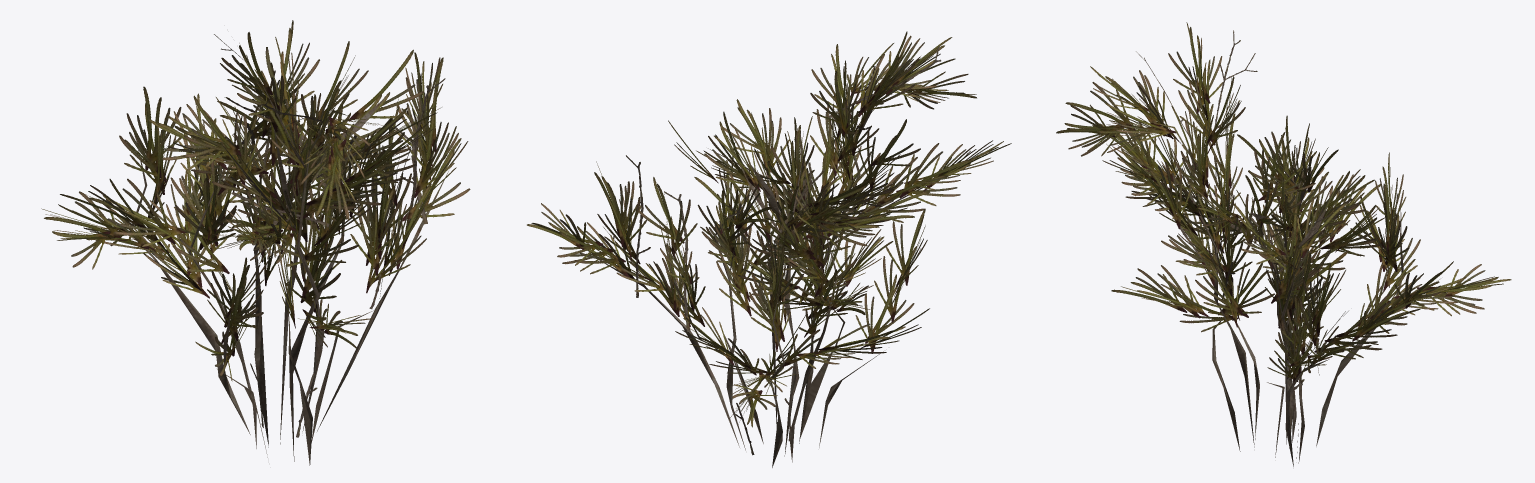
The model's file is bush_dry_c.glb.
The picture shows the model from 3 angles, left to right: view 1: azimuth 30°, elevation 25°; view 2: azimuth 150°, elevation 25°; view 3: azimuth 270°, elevation 25°; orthographic projection. The views are drawn at different scales.
Visible parts, largest first — view 1: bush_dry_c; view 2: bush_dry_c; view 3: bush_dry_c.
Part boxes in pixels (x1=…): bush_dry_c: x1=41, y1=20, x2=470, y2=465; bush_dry_c: x1=527, y1=31, x2=1011, y2=467; bush_dry_c: x1=1056, y1=22, x2=1511, y2=466.
Size of the model in its own units: 0.4093 by 0.4493 by 0.4834.
2 materials, 2 textured.
